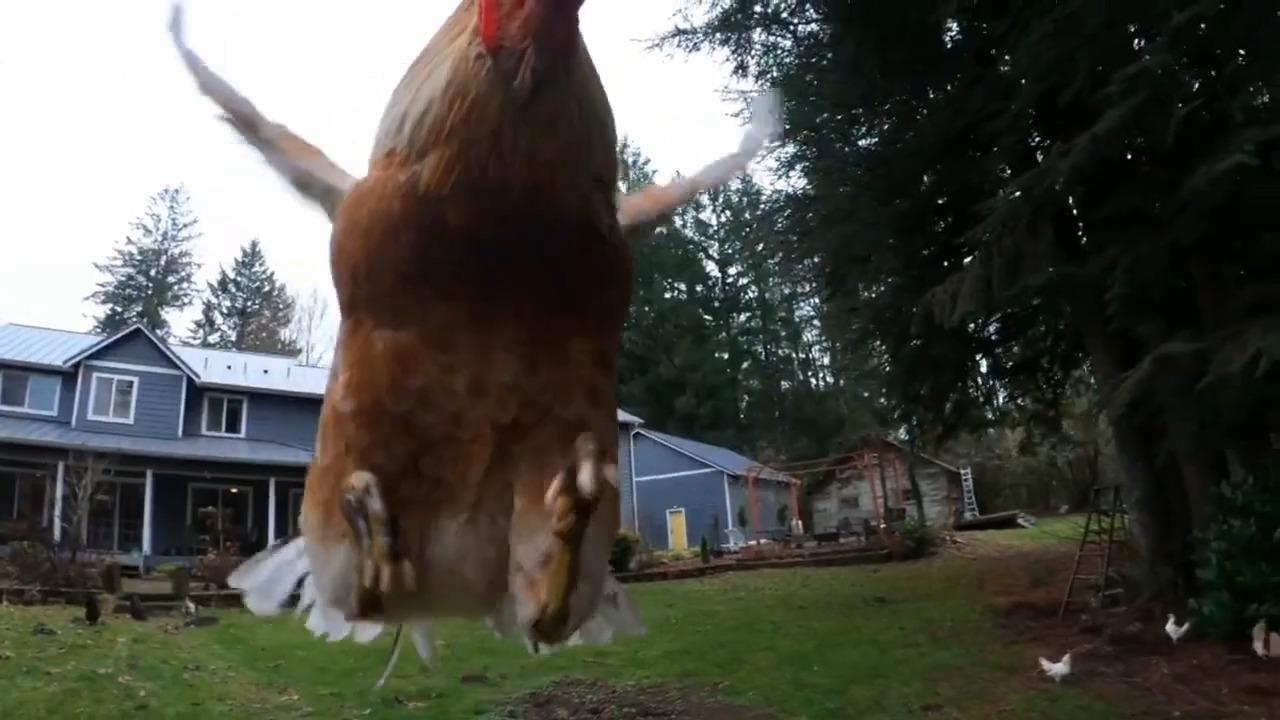Normal: (154, 0, 802, 626)
